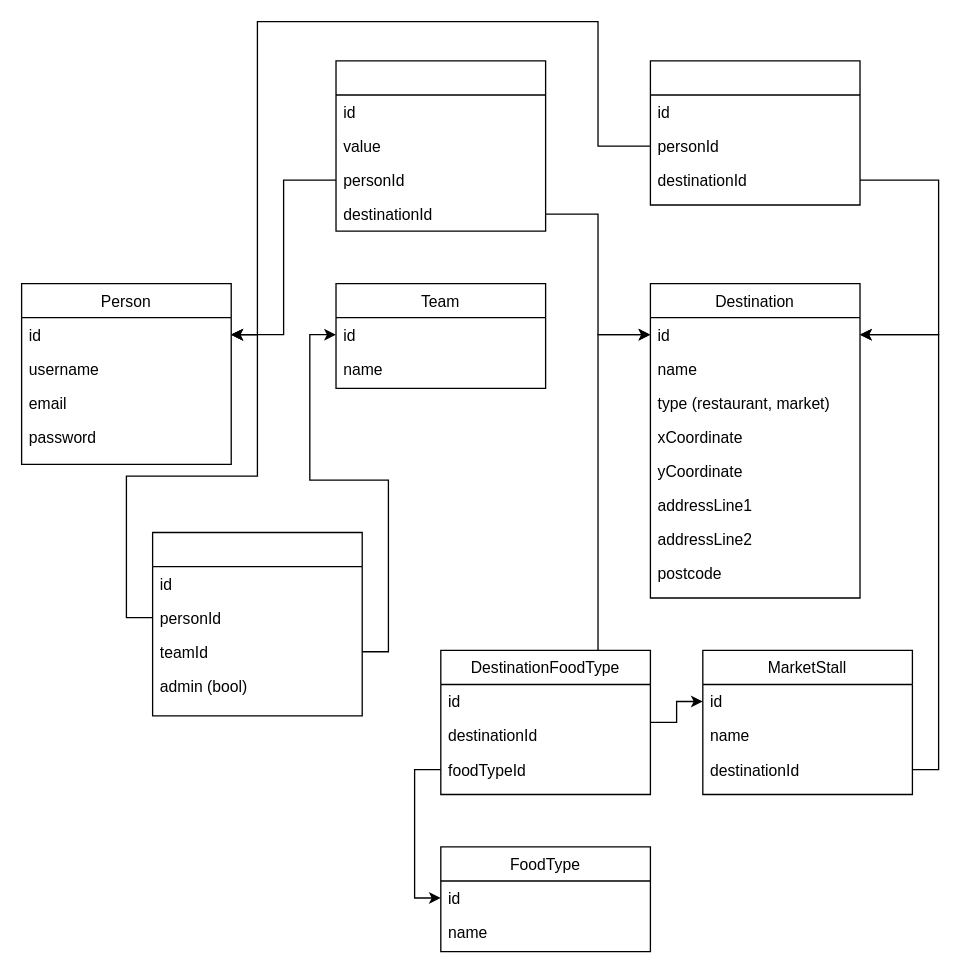
The diagram is 960 pixels wide and 973 high, and some of its shapes have lost their labels. Each missing label, with the box of its shape:
Rating: (335, 60, 546, 231)
TeamMember: (151, 531, 362, 716)
WishList: (649, 60, 860, 205)
